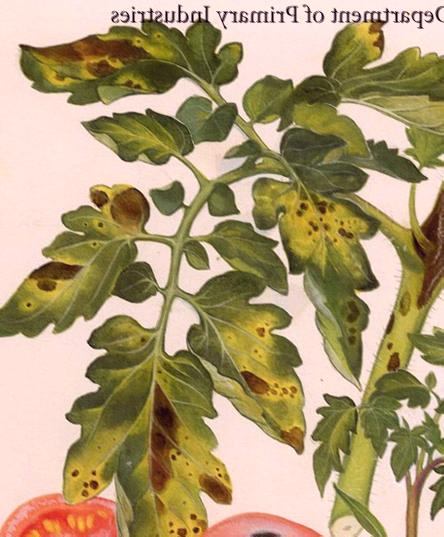Tomato Early blight leaf: (47, 324, 206, 537), (0, 172, 168, 345), (279, 147, 378, 379), (193, 275, 308, 448), (17, 16, 230, 100), (328, 14, 444, 153)
